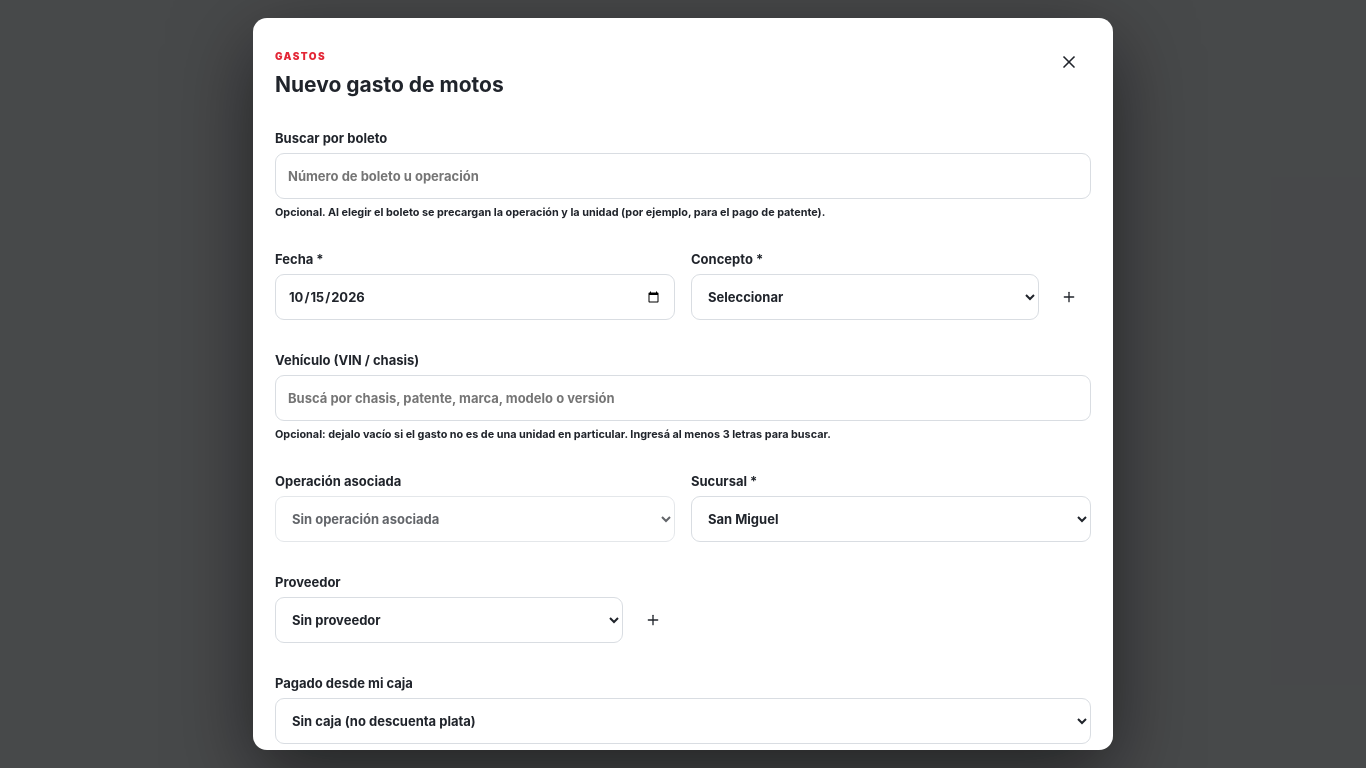
Scenario: Pago de vehículo por boleto › avisa si la operación del boleto todavía no tiene unidad
The width and height of the screenshot is (1366, 768).
Type "B-0001" into the field labelled "Buscar por boleto". click: (683, 176)
box: [275, 153, 1091, 199]
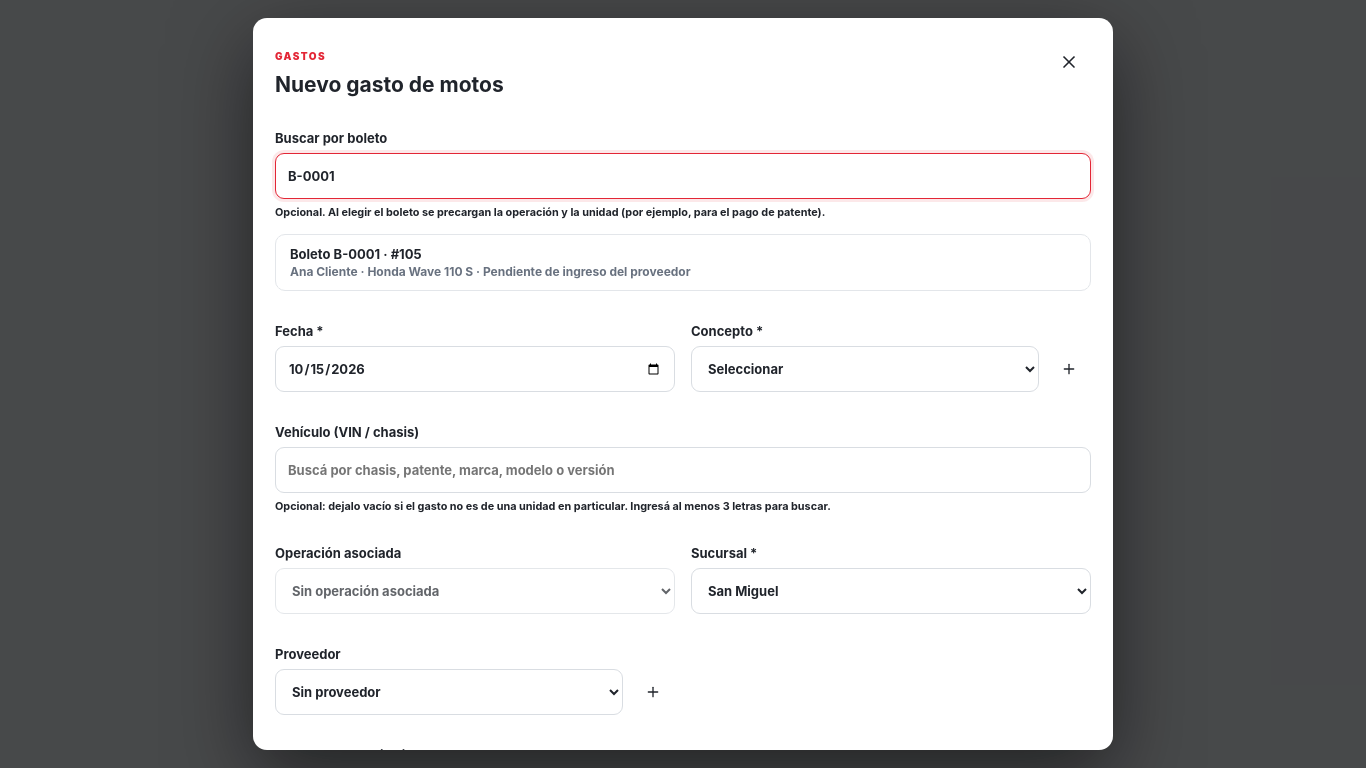
Result: the option "Boleto B-0001" shows "Pendiente de ingreso del proveedor"
Click the option "Boleto B-0001". click: click(683, 262)
box: [278, 237, 1088, 288]
(page scrolled)
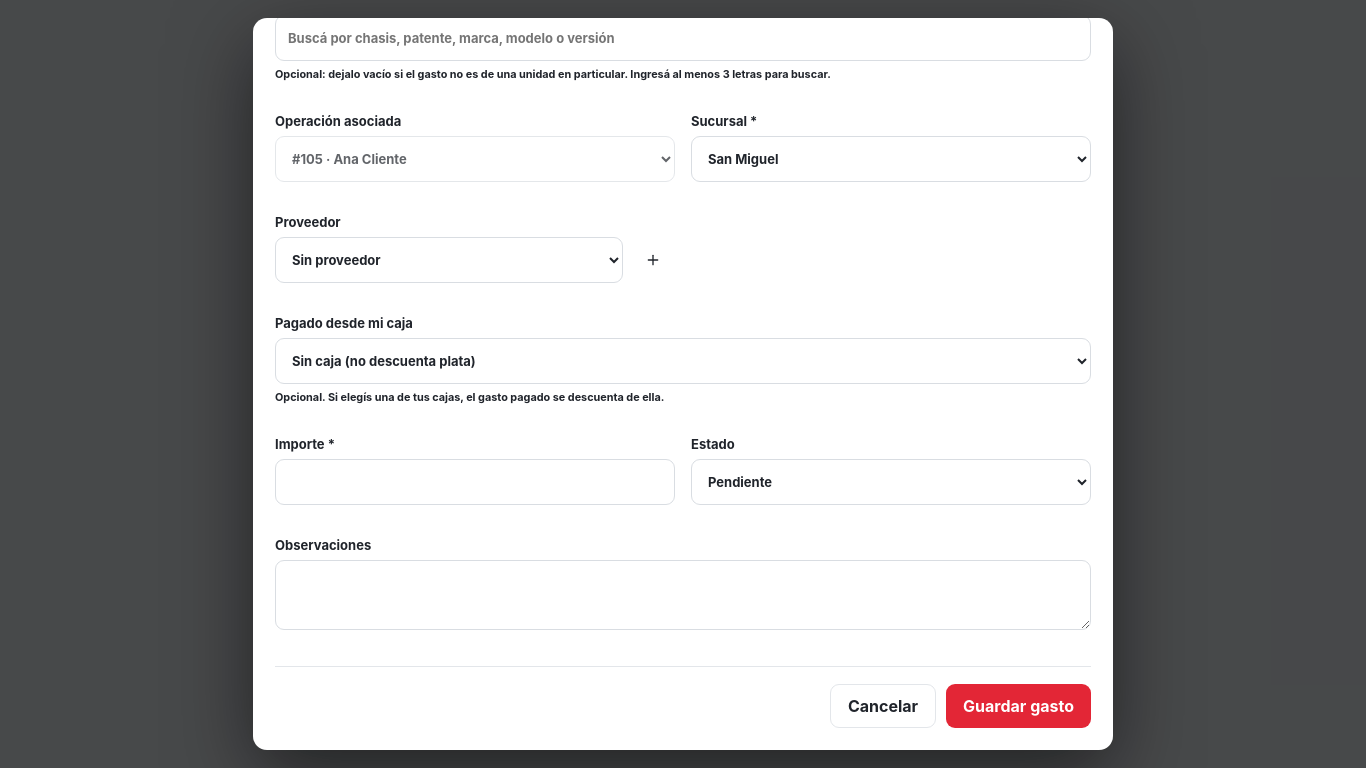
Result: the button "Guardar gasto" is enabled at [946, 684, 1091, 728]
